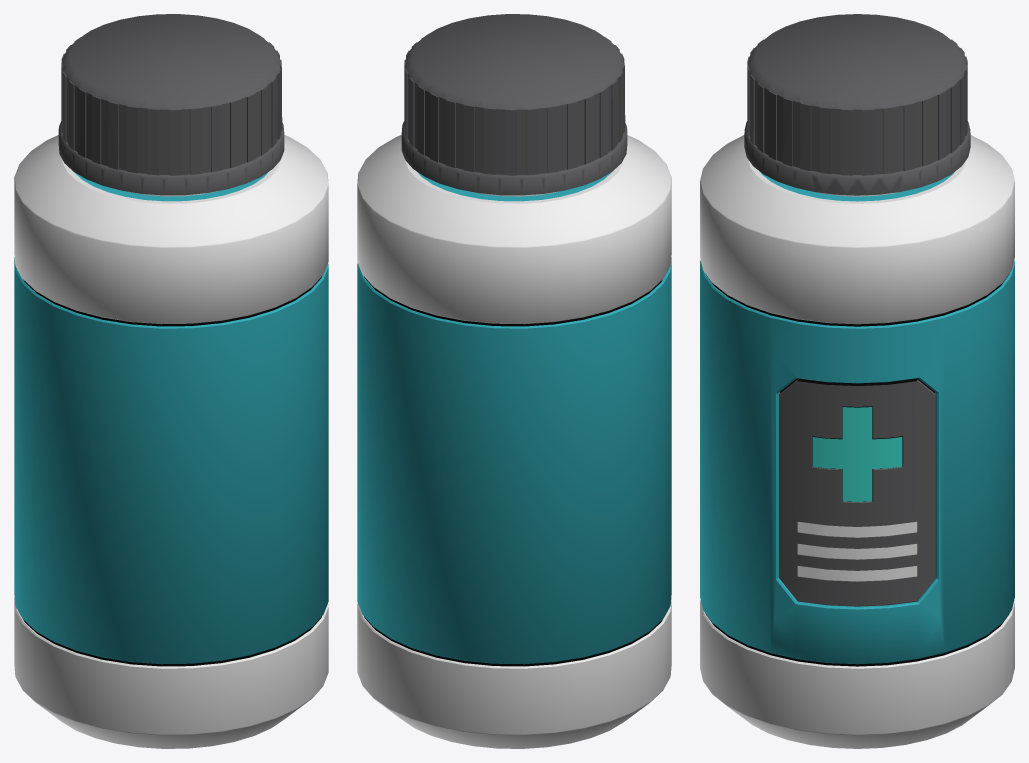
Rendered from medical_vial.glb.
The picture shows the model from 3 angles, left to right: view 1: azimuth 30°, elevation 25°; view 2: azimuth 150°, elevation 25°; view 3: azimuth 270°, elevation 25°; orthographic projection.
Parts seen in each view (by area): view 1: SM_Medical_Vial; view 2: SM_Medical_Vial; view 3: SM_Medical_Vial.
Boxes of the visible parts, x1,y1,x2,y2 form: SM_Medical_Vial: [14, 14, 328, 748]; SM_Medical_Vial: [357, 14, 671, 748]; SM_Medical_Vial: [700, 14, 1014, 748].
Size of the model in its own units: 0.07 by 0.1566 by 0.07.
